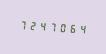four: (37, 18, 46, 33), (77, 21, 86, 36)
seven: (17, 17, 26, 32), (47, 19, 56, 34)
six: (67, 21, 76, 35)
two: (27, 18, 36, 32)
zero: (57, 20, 66, 34)
